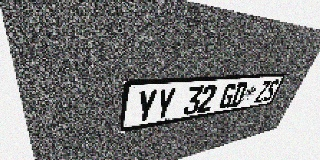2: (197, 84, 218, 113)
3: (182, 85, 204, 116)
D: (229, 82, 249, 108)
G: (218, 83, 238, 109)
S: (262, 79, 280, 102)
Y: (134, 89, 158, 124), (153, 87, 177, 121)
Z: (253, 80, 272, 103)
